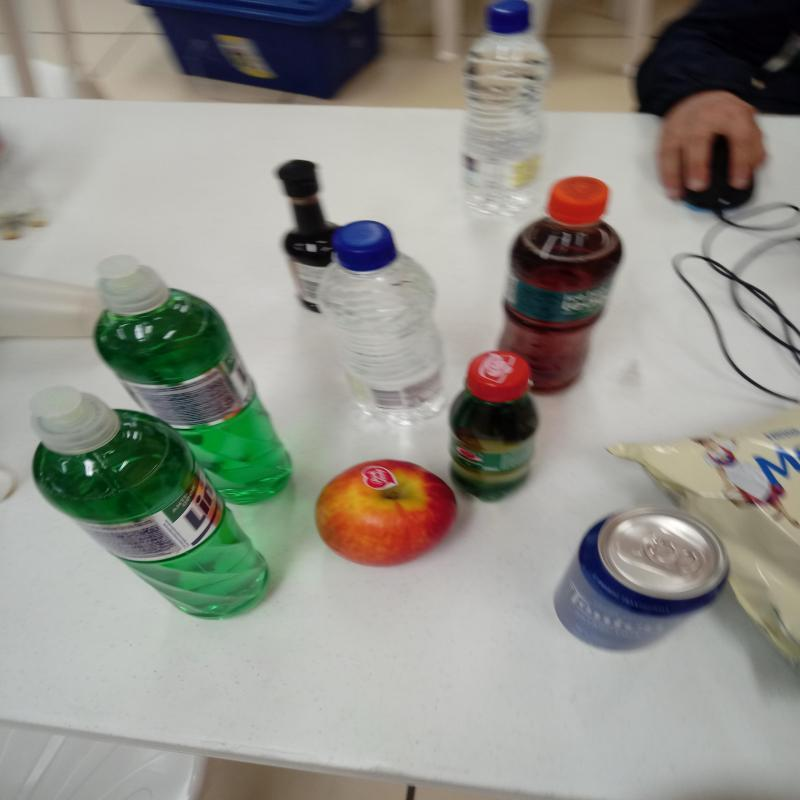Apple: (318, 459, 458, 568)
Cleaner: (30, 383, 278, 618), (92, 251, 298, 507)
CornFlakes: (616, 405, 800, 684)
EnglishSauce: (281, 159, 340, 314)
Guarana: (447, 348, 540, 500)
IceTea: (493, 177, 624, 394)
Tonic: (557, 504, 726, 657)
Water: (316, 219, 449, 428), (457, 0, 553, 224)
